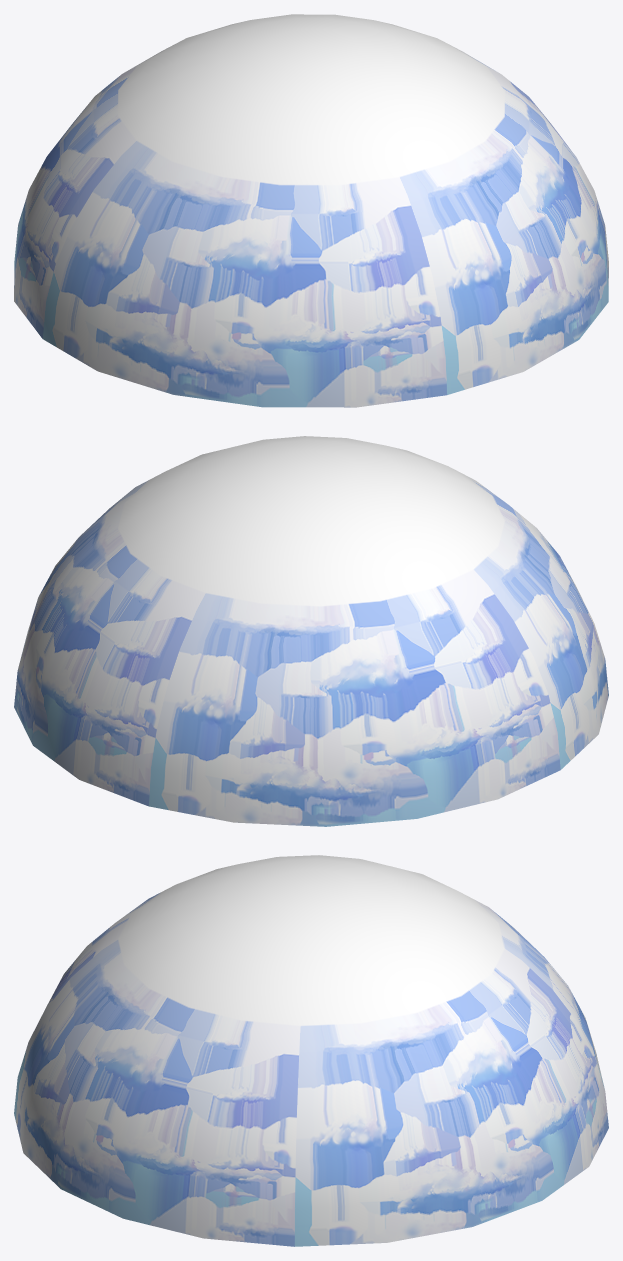
Rendered from summer_land_sky_cloud.FBX.
The picture shows the model from 3 angles, top to bottom: view 1: azimuth 30°, elevation 25°; view 2: azimuth 150°, elevation 25°; view 3: azimuth 270°, elevation 25°; orthographic projection.
Visible parts, largest first — view 1: videobooth_sky_cloud; view 2: videobooth_sky_cloud; view 3: videobooth_sky_cloud.
Boxes of the visible parts, x1=… form: videobooth_sky_cloud: x1=14, y1=14, x2=608, y2=407; videobooth_sky_cloud: x1=14, y1=436, x2=608, y2=826; videobooth_sky_cloud: x1=14, y1=855, x2=608, y2=1246.
Size of the model in its own units: 157 by 68.13 by 157.
